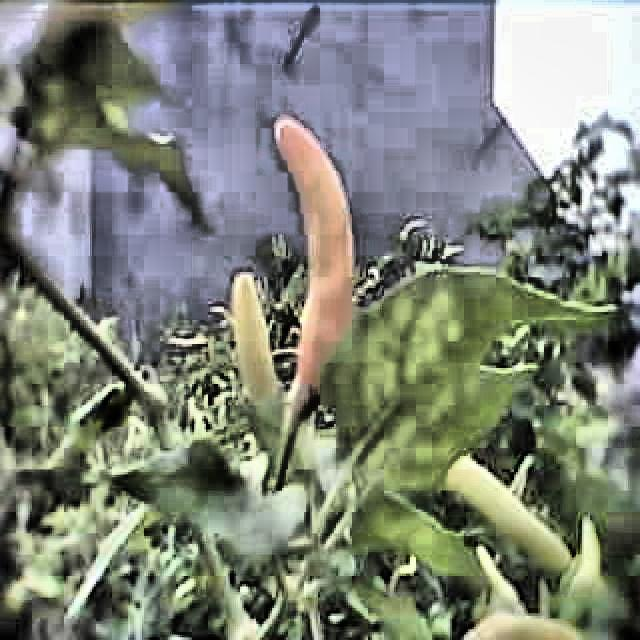Cabai: (276, 134, 370, 378)
